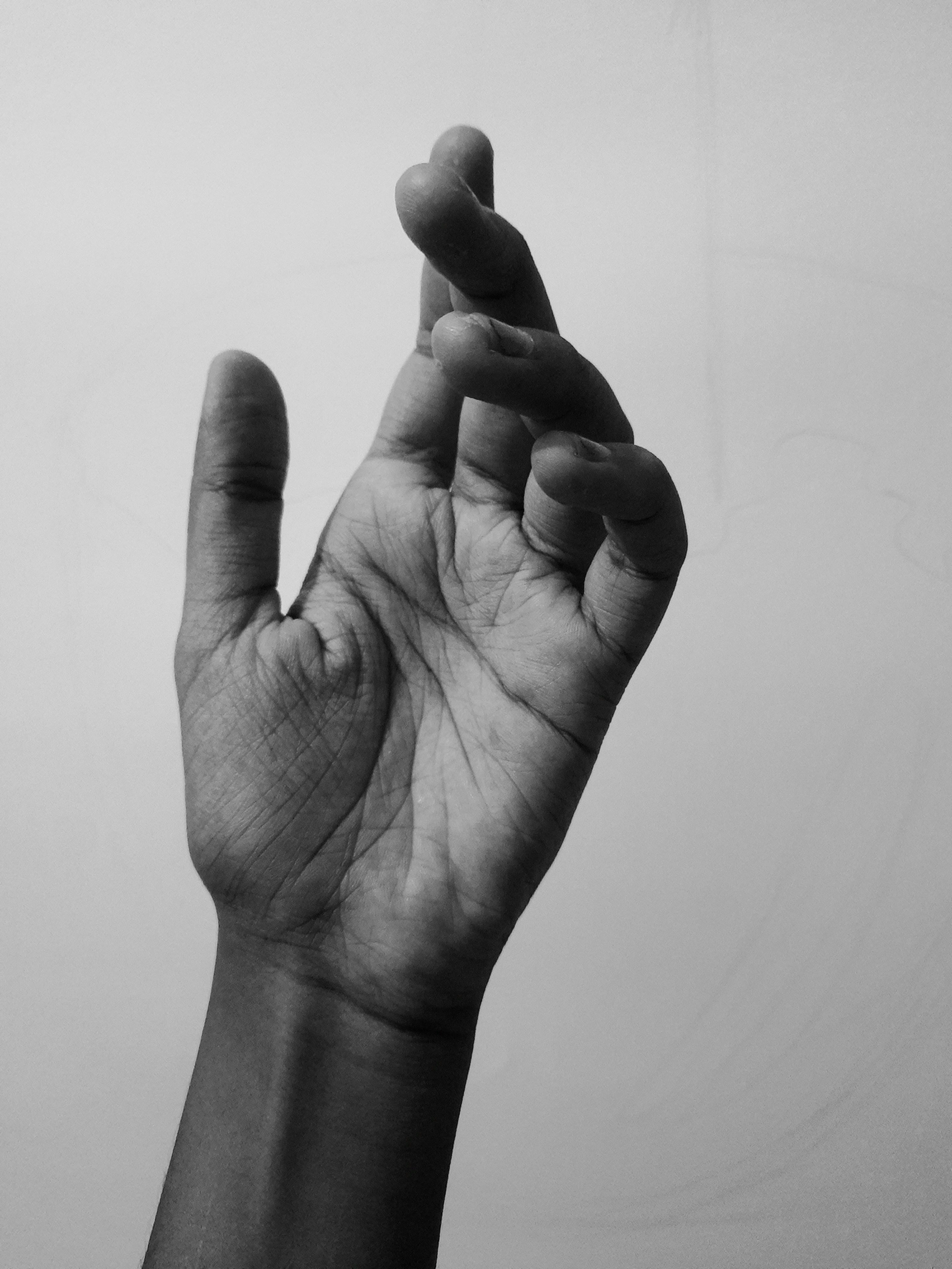family ring: (182, 590, 268, 711)
fate line: (317, 592, 428, 914)
girdle of venus: (435, 496, 497, 622)
head line: (391, 599, 489, 808)
heart line: (369, 507, 598, 760)
life line: (264, 546, 401, 917)
